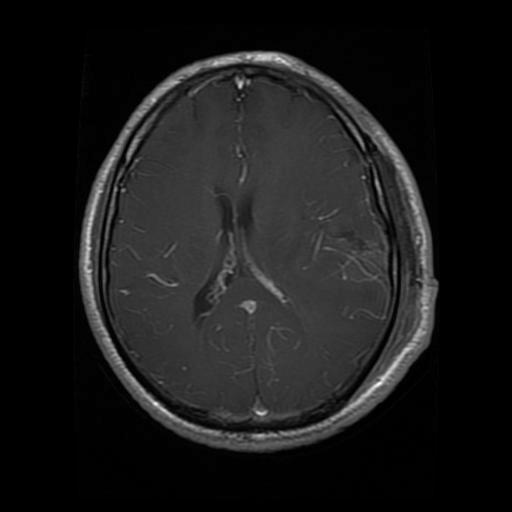Tumour-Glioma: (312, 221, 410, 309)
